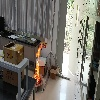fire: (34, 43, 42, 84)
